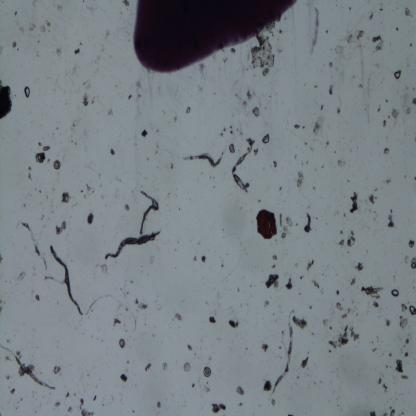Air bubble: (409, 304, 416, 316), (24, 86, 30, 98), (391, 289, 399, 297), (394, 70, 401, 78)
Background material: (86, 292, 137, 332), (249, 27, 278, 78), (305, 0, 321, 56), (0, 80, 14, 120), (328, 324, 348, 349), (359, 283, 385, 299), (77, 396, 94, 416), (295, 168, 307, 190), (18, 362, 35, 377), (292, 315, 308, 330), (265, 273, 279, 290), (372, 36, 386, 52), (350, 191, 359, 214), (401, 94, 411, 114), (348, 326, 361, 341), (90, 54, 101, 70), (196, 61, 208, 75), (304, 212, 312, 233), (56, 221, 67, 236), (211, 402, 226, 413), (135, 298, 148, 310), (98, 263, 109, 277), (333, 44, 345, 56), (399, 314, 408, 330), (262, 378, 272, 392), (26, 165, 34, 182), (387, 214, 396, 229), (395, 359, 404, 374), (346, 236, 356, 248), (61, 192, 71, 204), (70, 119, 79, 132), (300, 356, 309, 369), (312, 121, 320, 135), (81, 92, 88, 108), (306, 260, 314, 274), (391, 106, 399, 120), (229, 318, 239, 329), (85, 183, 95, 194), (368, 193, 378, 204), (252, 105, 261, 117), (183, 361, 192, 373), (87, 211, 94, 226), (70, 62, 78, 75), (86, 4, 99, 12), (37, 23, 47, 33), (54, 46, 62, 58), (18, 270, 26, 282), (0, 298, 6, 314), (284, 216, 292, 228), (236, 384, 244, 396), (208, 315, 218, 324), (346, 33, 355, 43), (112, 318, 122, 327), (140, 128, 149, 138), (173, 312, 182, 322), (53, 364, 62, 374), (337, 159, 348, 167), (246, 138, 255, 147), (355, 262, 364, 271), (349, 73, 357, 83), (356, 30, 364, 40), (260, 343, 268, 353), (120, 372, 128, 382), (118, 338, 126, 348), (262, 134, 270, 144), (382, 178, 392, 186), (286, 278, 292, 291), (228, 143, 235, 154), (247, 89, 254, 100), (367, 9, 373, 21), (321, 318, 330, 326), (383, 147, 391, 156), (399, 374, 409, 381), (411, 256, 416, 270), (404, 7, 410, 18), (136, 79, 142, 90), (156, 399, 162, 410), (144, 363, 152, 371), (336, 302, 344, 310), (66, 406, 74, 414), (312, 280, 320, 288), (408, 240, 416, 248), (400, 303, 408, 311), (185, 106, 192, 115), (203, 384, 210, 393), (161, 362, 168, 371), (197, 376, 202, 388), (279, 213, 283, 228), (338, 239, 344, 249), (329, 84, 334, 96), (221, 56, 228, 64), (29, 23, 36, 31), (34, 293, 41, 301), (365, 113, 370, 124), (404, 253, 409, 264), (4, 372, 10, 381), (42, 145, 51, 151), (36, 153, 42, 162), (16, 350, 22, 359), (19, 26, 25, 35), (271, 397, 276, 407), (86, 80, 91, 90), (201, 256, 208, 263), (32, 0, 39, 7), (123, 0, 130, 7), (230, 47, 237, 54), (350, 277, 356, 285), (42, 151, 46, 163), (123, 366, 129, 374), (272, 158, 278, 166), (276, 46, 282, 54), (108, 109, 114, 117), (192, 254, 198, 262), (0, 43, 4, 55), (263, 300, 269, 308), (234, 94, 242, 100), (369, 410, 377, 416), (55, 400, 61, 408), (383, 383, 388, 392), (254, 147, 259, 156), (187, 344, 193, 351), (390, 409, 396, 416), (373, 301, 379, 308), (9, 388, 16, 394), (4, 355, 10, 362), (74, 48, 80, 55), (100, 43, 104, 53), (377, 376, 382, 384), (125, 204, 130, 212), (150, 254, 154, 264), (336, 107, 341, 115), (384, 133, 389, 141), (16, 220, 20, 230), (385, 319, 390, 327), (12, 41, 17, 49), (332, 212, 340, 217), (405, 337, 410, 345), (110, 148, 115, 156), (104, 30, 109, 38), (392, 273, 396, 283), (46, 19, 51, 27), (293, 124, 301, 129), (91, 95, 95, 105), (57, 6, 63, 12), (0, 252, 3, 264), (383, 119, 387, 128), (280, 232, 286, 238), (155, 141, 159, 150), (341, 313, 347, 319), (335, 290, 341, 296), (5, 338, 11, 344), (377, 104, 381, 113), (284, 226, 289, 233), (329, 60, 333, 68), (36, 38, 40, 46), (92, 394, 96, 402), (66, 390, 70, 398), (77, 41, 83, 46), (277, 186, 283, 191), (242, 100, 247, 106), (208, 355, 213, 361), (357, 84, 363, 89), (350, 230, 354, 237), (273, 254, 277, 261), (100, 193, 104, 200), (42, 214, 46, 221), (374, 63, 379, 68), (116, 177, 121, 182), (22, 204, 27, 209), (47, 75, 52, 80), (238, 402, 243, 407), (171, 162, 174, 170), (371, 348, 377, 352), (388, 351, 392, 357), (36, 50, 39, 58), (279, 28, 283, 34), (294, 154, 298, 160), (175, 115, 178, 123), (308, 306, 314, 310), (382, 412, 388, 416), (373, 188, 379, 192), (406, 62, 410, 68), (412, 98, 416, 104), (320, 104, 323, 111), (348, 308, 352, 313), (336, 403, 340, 408), (128, 94, 132, 99), (400, 411, 404, 416), (20, 396, 24, 401), (191, 383, 195, 388), (326, 141, 330, 146), (304, 141, 308, 146), (314, 84, 318, 89), (294, 222, 298, 227), (197, 240, 201, 245), (336, 395, 340, 400), (365, 249, 369, 254), (375, 337, 379, 342), (325, 29, 329, 34), (38, 142, 42, 147), (410, 42, 413, 48), (64, 70, 67, 76), (132, 408, 135, 414), (15, 10, 18, 16), (223, 126, 226, 132), (74, 392, 77, 398), (115, 82, 118, 88), (176, 240, 180, 244), (82, 82, 86, 86), (306, 350, 310, 354), (296, 375, 300, 379), (239, 132, 243, 136), (156, 128, 160, 132), (220, 133, 224, 137), (346, 178, 350, 182), (312, 186, 316, 190), (328, 349, 332, 353), (160, 340, 164, 344), (205, 301, 209, 305), (162, 110, 166, 114), (404, 352, 408, 356), (312, 382, 316, 386), (348, 6, 352, 10), (47, 158, 51, 162), (222, 227, 225, 232), (39, 189, 42, 194), (139, 93, 142, 98), (295, 262, 298, 267), (273, 263, 276, 268), (221, 263, 224, 268), (46, 194, 49, 199), (343, 213, 346, 218), (340, 230, 343, 235), (379, 8, 384, 11), (364, 107, 367, 112), (413, 175, 416, 180), (390, 209, 393, 214), (396, 88, 399, 93), (112, 394, 114, 401), (320, 380, 323, 384), (388, 115, 391, 119), (98, 378, 101, 382), (396, 27, 399, 31), (99, 174, 101, 180), (57, 300, 59, 306), (130, 280, 133, 284), (300, 276, 303, 280), (79, 190, 83, 193), (311, 332, 314, 336), (386, 98, 388, 104), (336, 2, 338, 8), (127, 360, 130, 364), (306, 160, 309, 164), (249, 284, 252, 288), (176, 404, 179, 408), (146, 157, 149, 161), (230, 130, 233, 134), (371, 340, 374, 344), (334, 150, 337, 154), (321, 165, 324, 169), (302, 126, 305, 130), (406, 86, 408, 91), (152, 333, 154, 338), (237, 287, 239, 292), (413, 86, 415, 91), (413, 285, 415, 290), (405, 174, 407, 179), (2, 1, 5, 4), (313, 113, 316, 116), (70, 140, 73, 143), (53, 89, 56, 92), (381, 374, 384, 377), (74, 327, 77, 330), (315, 217, 318, 220), (74, 143, 77, 146), (55, 127, 58, 130), (35, 187, 38, 190), (303, 83, 306, 86), (2, 136, 4, 140), (386, 364, 388, 368), (127, 290, 129, 294), (91, 334, 93, 338), (244, 348, 248, 350), (269, 95, 271, 99), (282, 101, 284, 105), (128, 38, 130, 42), (299, 292, 301, 296), (356, 145, 358, 149), (52, 210, 54, 214), (411, 14, 413, 18), (359, 44, 361, 48), (415, 135, 416, 142), (96, 338, 98, 341), (222, 259, 224, 262), (407, 301, 409, 304), (17, 48, 19, 51), (82, 0, 84, 3), (91, 309, 93, 312), (144, 323, 146, 326), (126, 308, 128, 311), (206, 382, 209, 384), (84, 195, 86, 198), (399, 413, 401, 416), (100, 184, 102, 187), (14, 94, 16, 97), (236, 129, 239, 131), (47, 30, 50, 32), (396, 7, 399, 9), (396, 398, 398, 401), (75, 90, 77, 93), (30, 194, 32, 196), (42, 114, 44, 116), (390, 398, 392, 400), (93, 0, 95, 2), (390, 407, 392, 409), (386, 401, 388, 403), (194, 353, 196, 355), (404, 346, 406, 348), (52, 133, 54, 135), (135, 384, 137, 386), (217, 338, 219, 340), (226, 254, 228, 256), (178, 208, 180, 210), (101, 340, 103, 342), (381, 81, 383, 83), (230, 126, 232, 128), (65, 103, 67, 105), (88, 374, 89, 376), (60, 100, 61, 102), (244, 318, 245, 320), (65, 27, 66, 29), (30, 111, 31, 113), (324, 64, 325, 66), (156, 151, 157, 153)
Cellulose filter fibre: (46, 243, 82, 315), (0, 344, 56, 390), (270, 320, 295, 395), (104, 230, 159, 260), (21, 222, 48, 270), (181, 145, 228, 168), (138, 189, 160, 235), (233, 147, 252, 193)
Diatom: (204, 366, 212, 376), (54, 160, 61, 169)
Fragment: (255, 208, 278, 240)
Pen: (132, 0, 298, 75)
